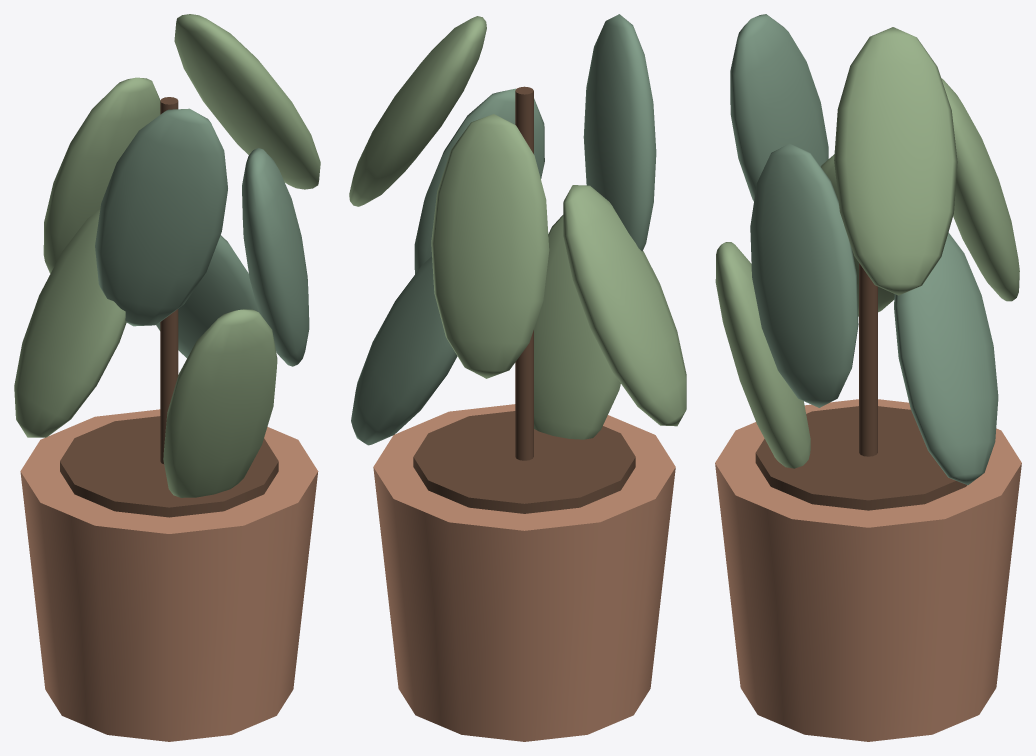
The model's file is plant-w1_1b.glb.
3 views of the same model, side by side, from view 1: azimuth 30°, elevation 25°; view 2: azimuth 150°, elevation 25°; view 3: azimuth 270°, elevation 25° (orthographic). The views are drawn at different scales.
Parts seen in each view (by area): view 1: plant-w1_1b.material0, plant-w1_1b.material3, plant-w1_1b.material4, plant-w1_1b.material1, plant-w1_1b.material2; view 2: plant-w1_1b.material0, plant-w1_1b.material3, plant-w1_1b.material4, plant-w1_1b.material1, plant-w1_1b.material2; view 3: plant-w1_1b.material0, plant-w1_1b.material4, plant-w1_1b.material3, plant-w1_1b.material1, plant-w1_1b.material2.
Boxes of the visible parts, bbox=[...] form: plant-w1_1b.material0: bbox=[20, 409, 318, 741]; plant-w1_1b.material3: bbox=[14, 14, 320, 497]; plant-w1_1b.material4: bbox=[95, 108, 309, 366]; plant-w1_1b.material1: bbox=[60, 416, 278, 517]; plant-w1_1b.material2: bbox=[160, 97, 178, 463]; plant-w1_1b.material0: bbox=[373, 404, 675, 741]; plant-w1_1b.material3: bbox=[349, 16, 686, 439]; plant-w1_1b.material4: bbox=[351, 14, 656, 445]; plant-w1_1b.material1: bbox=[413, 411, 635, 513]; plant-w1_1b.material2: bbox=[515, 86, 533, 460]; plant-w1_1b.material0: bbox=[715, 399, 1021, 741]; plant-w1_1b.material4: bbox=[730, 14, 998, 485]; plant-w1_1b.material3: bbox=[715, 27, 1019, 468]; plant-w1_1b.material1: bbox=[755, 406, 966, 510]; plant-w1_1b.material2: bbox=[859, 263, 877, 456].
Bounding box in the file's own units: 0.4845 × 0.9927 × 0.408.
